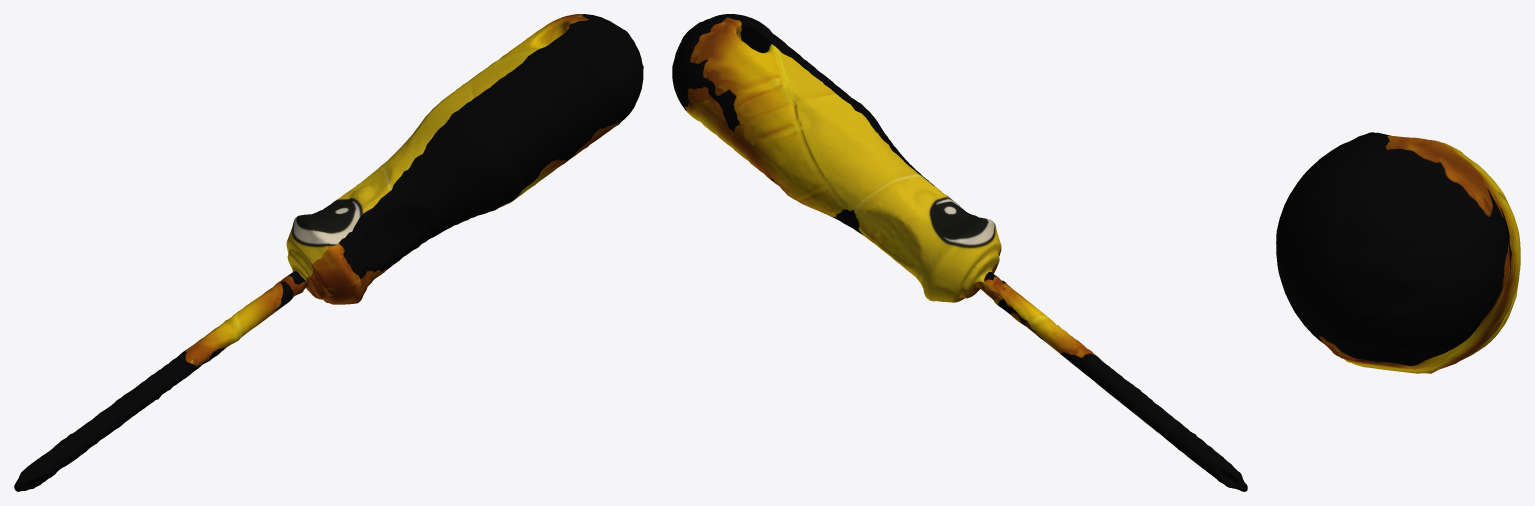
3 views of the same model, side by side, from view 1: azimuth 30°, elevation 25°; view 2: azimuth 150°, elevation 25°; view 3: azimuth 270°, elevation 25° (orthographic). The views are drawn at different scales.
Size of the model in its own units: 0.1949 by 0.107 by 0.0355.
